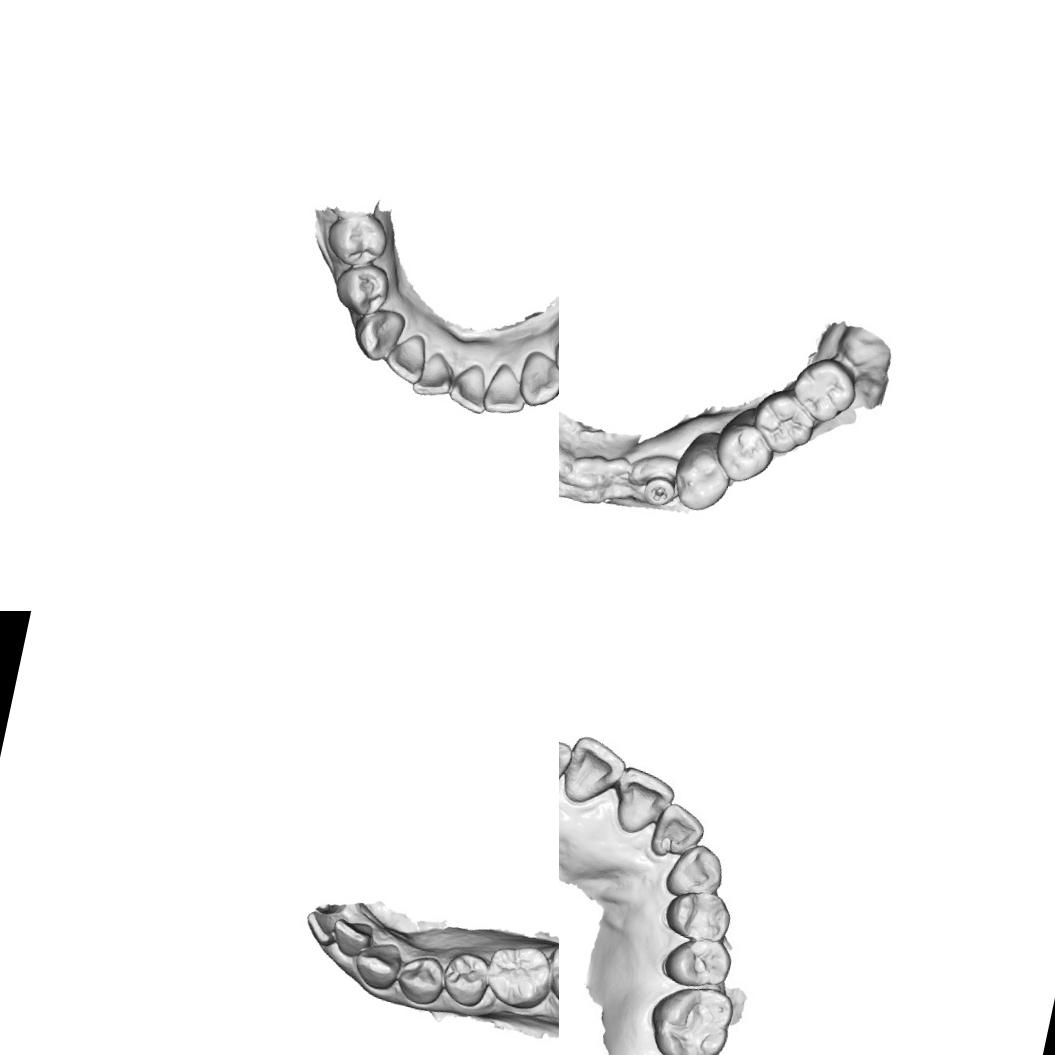canine: (660, 838, 732, 904), (348, 302, 406, 367), (350, 937, 404, 994), (515, 347, 559, 412)
implant_plus: (640, 476, 676, 514)
incisor: (559, 730, 631, 814), (605, 764, 677, 845), (642, 800, 710, 868), (479, 359, 534, 420), (443, 358, 494, 419), (381, 328, 430, 386), (412, 343, 460, 402), (328, 914, 376, 961), (301, 904, 350, 950)
molar: (642, 972, 741, 1055), (786, 351, 863, 428), (480, 938, 559, 1013), (746, 385, 821, 461), (540, 928, 559, 1020)
premolar: (668, 436, 736, 519), (709, 413, 781, 489), (657, 884, 736, 949), (662, 931, 734, 1000), (321, 207, 393, 272), (328, 257, 396, 322), (437, 948, 493, 1011), (392, 950, 450, 1009)
